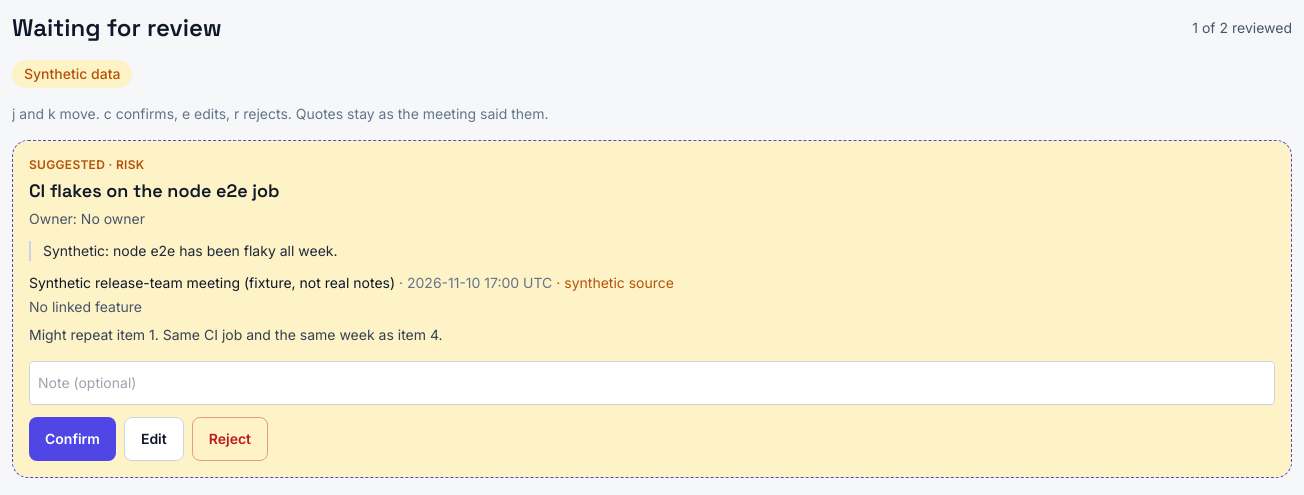
Test: RAID review queue › shows the new RAID ID after an approver confirms
Click the button "Confirm": (72, 439) [29,417,116,461]
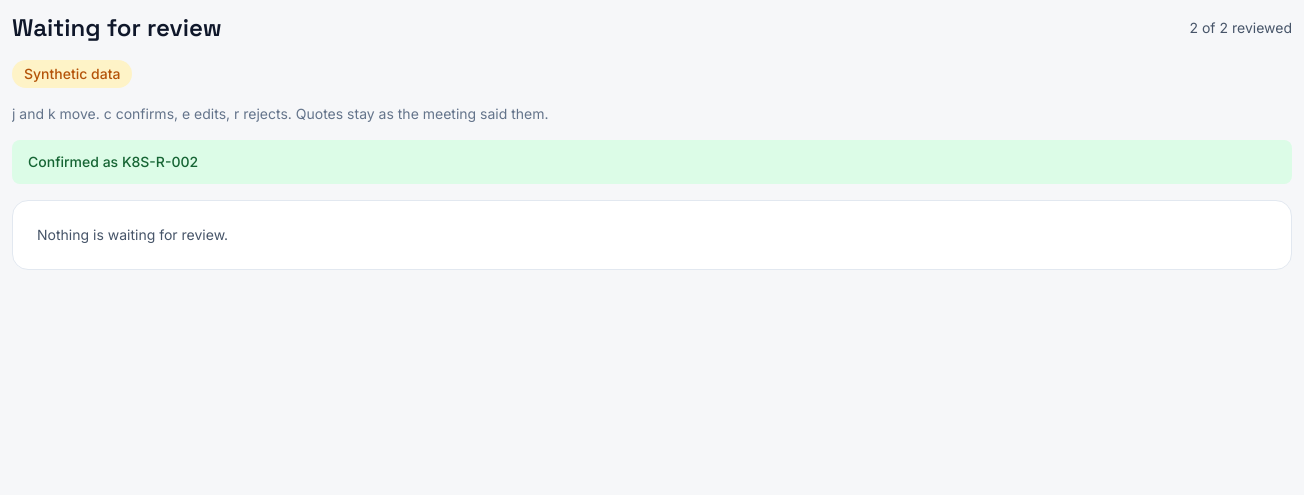
Expected: the message reads "Confirmed as K8S-R-002", [28,153,198,170]
Expected: the text "Synthetic: node e2e has been flaky all week." is gone
